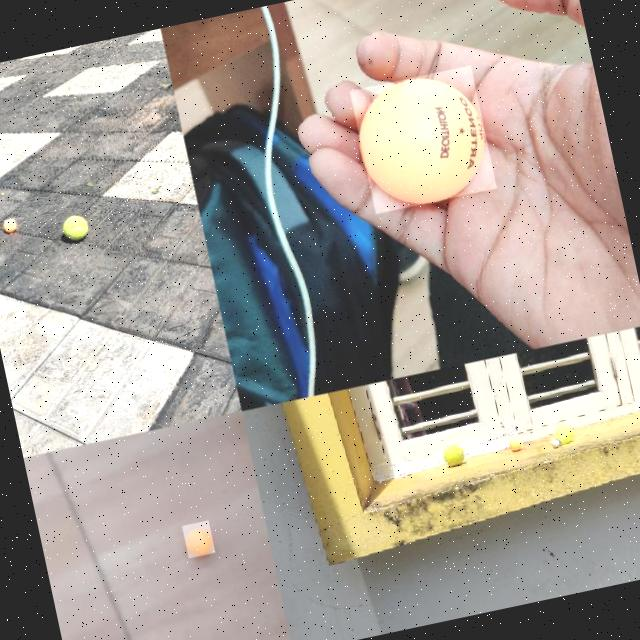ping-pong-ball: (347, 64, 496, 214), (180, 520, 213, 558), (508, 436, 522, 450), (1, 217, 15, 230)
